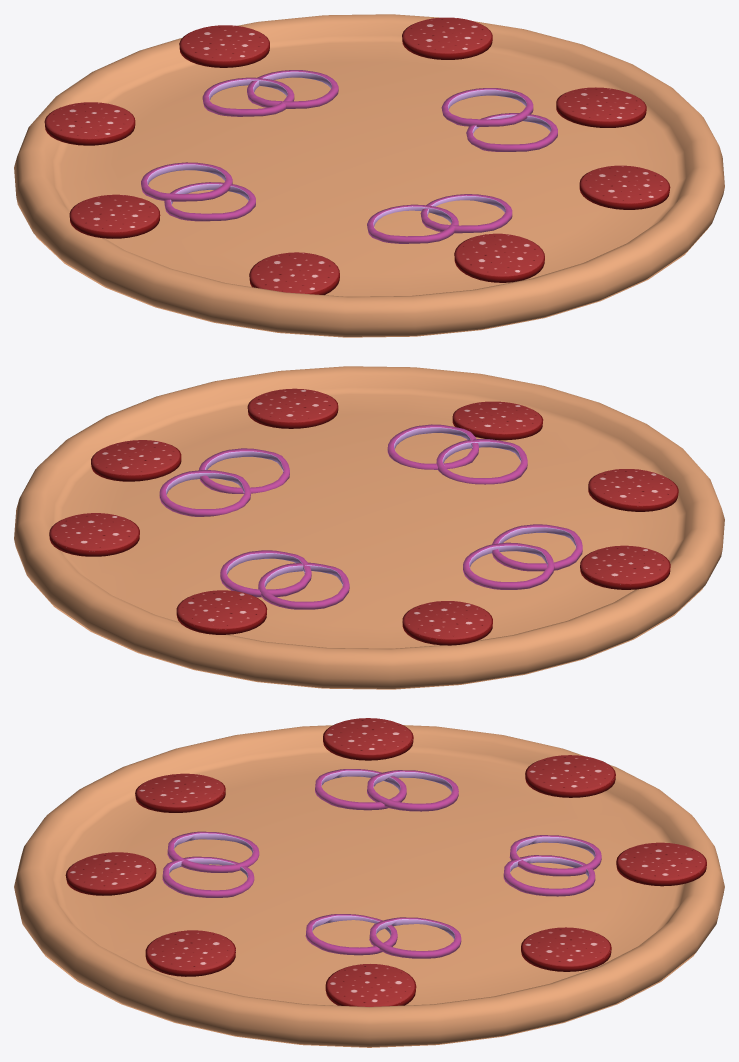
Rendered from pepperonionionbakeddough.glb.
3 views of the same model, one above another, from view 1: azimuth 30°, elevation 25°; view 2: azimuth 150°, elevation 25°; view 3: azimuth 270°, elevation 25° (orthographic).
Visible parts, largest first — view 1: Dough.001; view 2: Dough.001; view 3: Dough.001.
Boxes of the visible parts, x1,y1,x2,y2 form: Dough.001: [14, 14, 724, 337]; Dough.001: [14, 366, 724, 689]; Dough.001: [14, 718, 724, 1047].
Bounding box in the file's own units: 2.53 × 0.2017 × 2.53.
26 materials, 8 textured.
